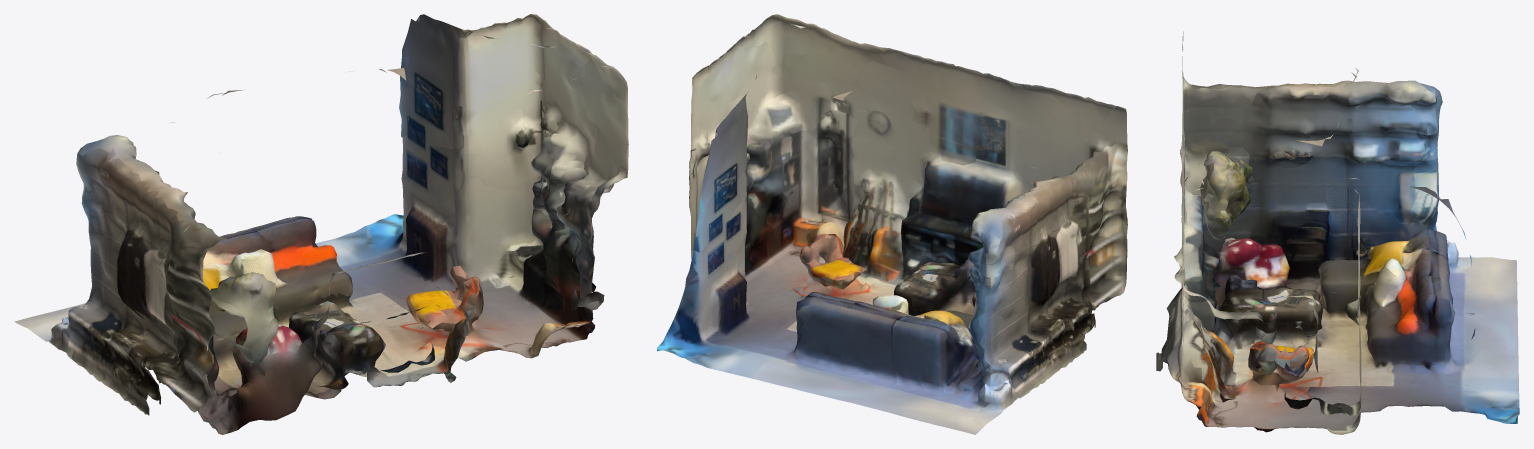
File: lounge.glb
The picture shows the model from 3 angles, left to right: view 1: azimuth 30°, elevation 25°; view 2: azimuth 150°, elevation 25°; view 3: azimuth 270°, elevation 25°; orthographic projection. The views are drawn at different scales.
Parts seen in each view (by area): view 1: lounge; view 2: lounge; view 3: lounge.
Boxes of the visible parts, left/top/right/bottom form: lounge: left=14, top=14, right=628, bottom=434; lounge: left=657, top=14, right=1127, bottom=434; lounge: left=1156, top=31, right=1519, bottom=434.
Size of the model in its own units: 4.88 by 3 by 3.87.
Materials: 1 (1 with a texture image).
